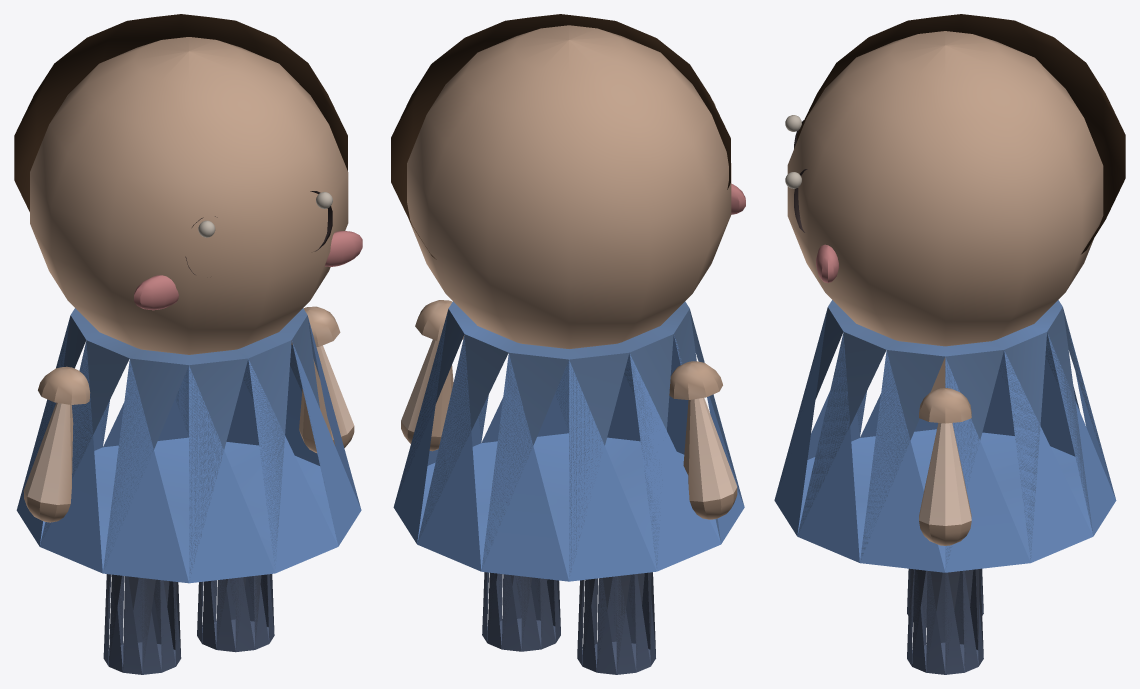
3 renders of one model, left to right at view 1: azimuth 30°, elevation 25°; view 2: azimuth 150°, elevation 25°; view 3: azimuth 270°, elevation 25°, orthographic. The views are drawn at different scales.
Parts seen in each view (by area): view 1: pet_p6cc88e25; view 2: pet_p6cc88e25; view 3: pet_p6cc88e25.
Boxes of the visible parts, bbox=[...] form: pet_p6cc88e25: bbox=[14, 14, 362, 674]; pet_p6cc88e25: bbox=[391, 14, 745, 674]; pet_p6cc88e25: bbox=[774, 14, 1125, 674].
Size of the model in its own units: 0.2944 by 0.5313 by 0.2793.
